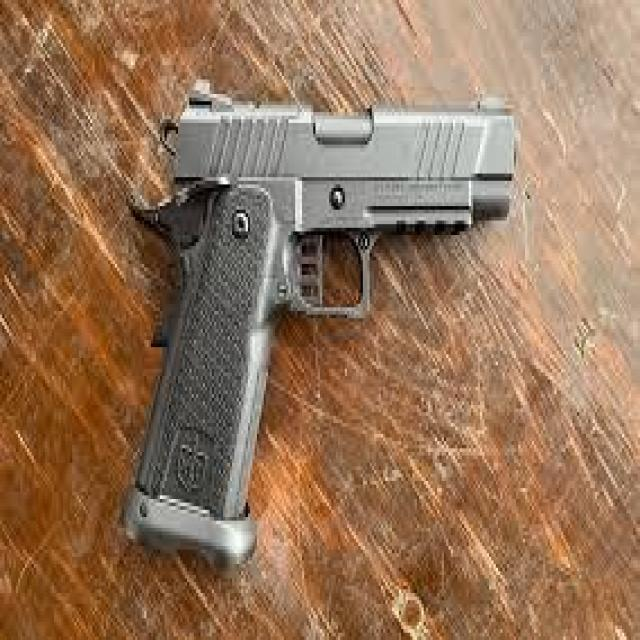gun: (119, 80, 518, 568)
